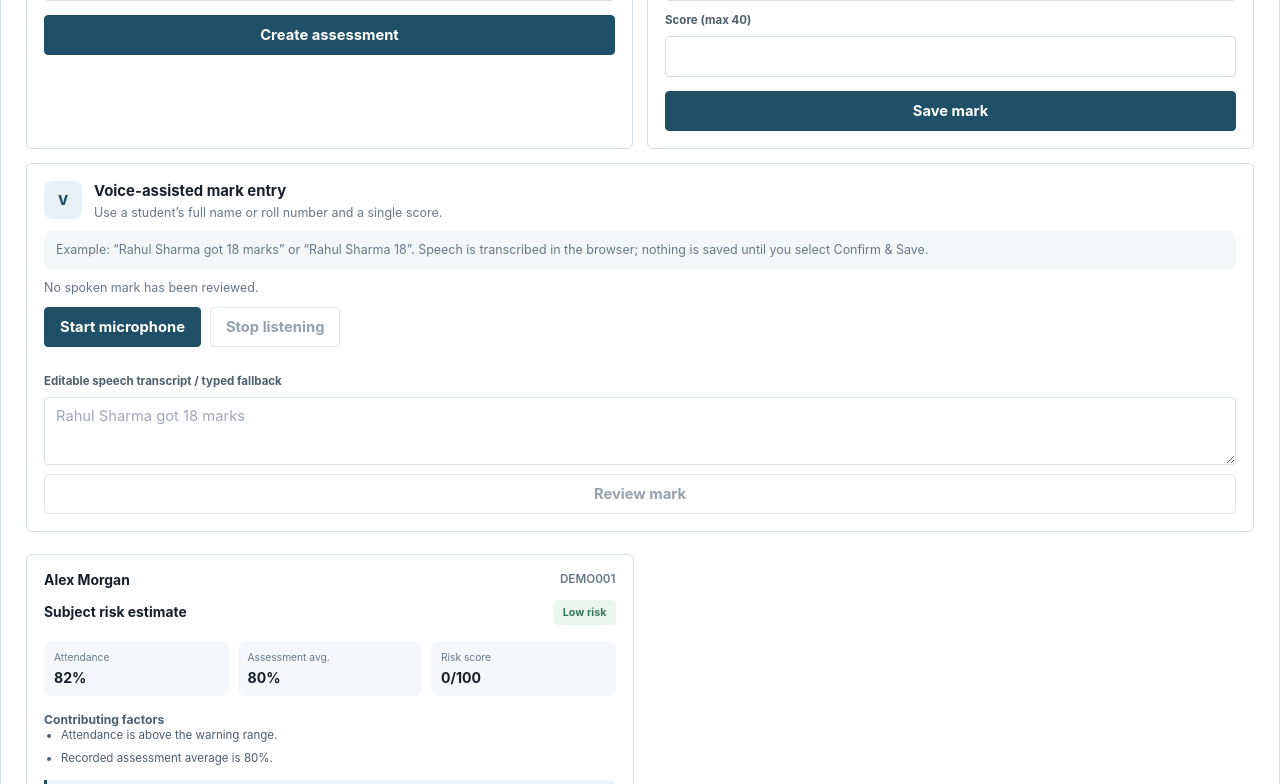
it: academic workspace › surfaces mark API failures instead of reporting a successful save
This screenshot has width=1280, height=784.
(page scrolled)
In the text box labelled "Editable speech transcript / typed fallback": [640, 431] box [44, 397, 1236, 465], type "Alex Morgan got 18 marks"
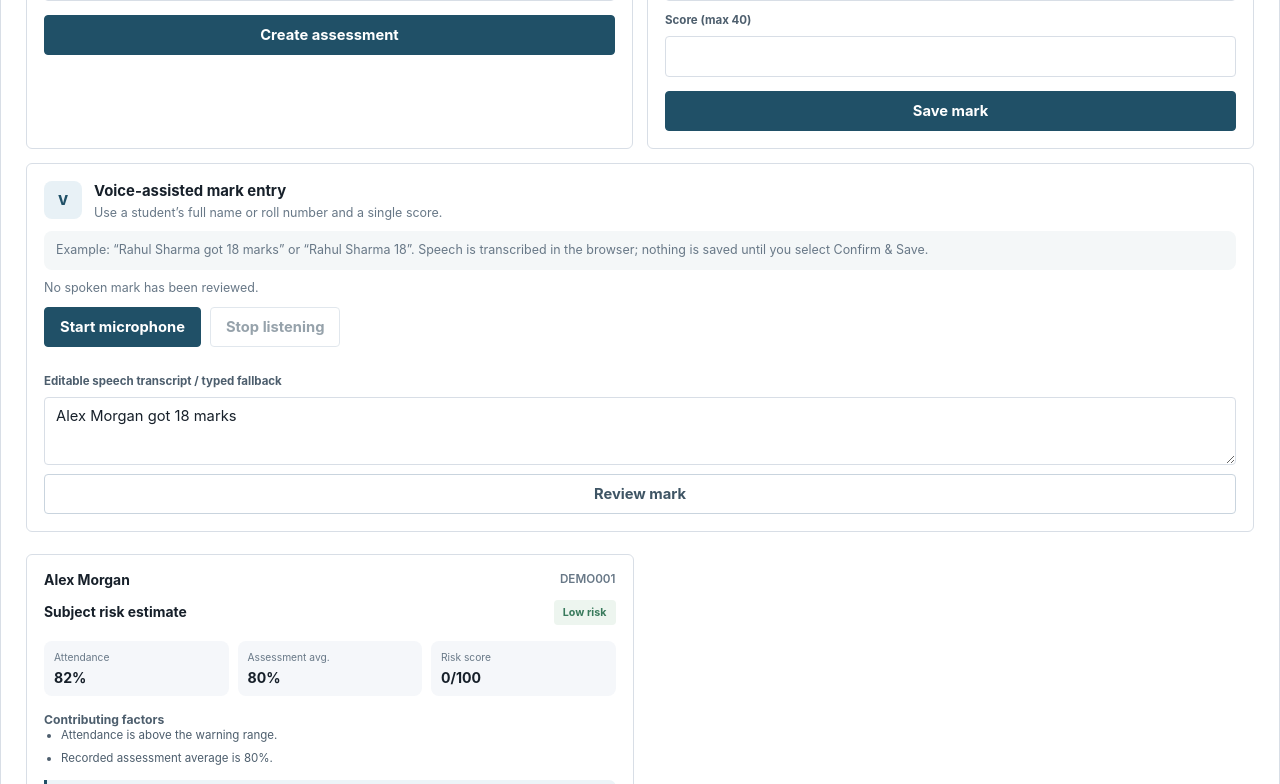
Click the button "Review mark": [640, 494] box [44, 474, 1236, 514]
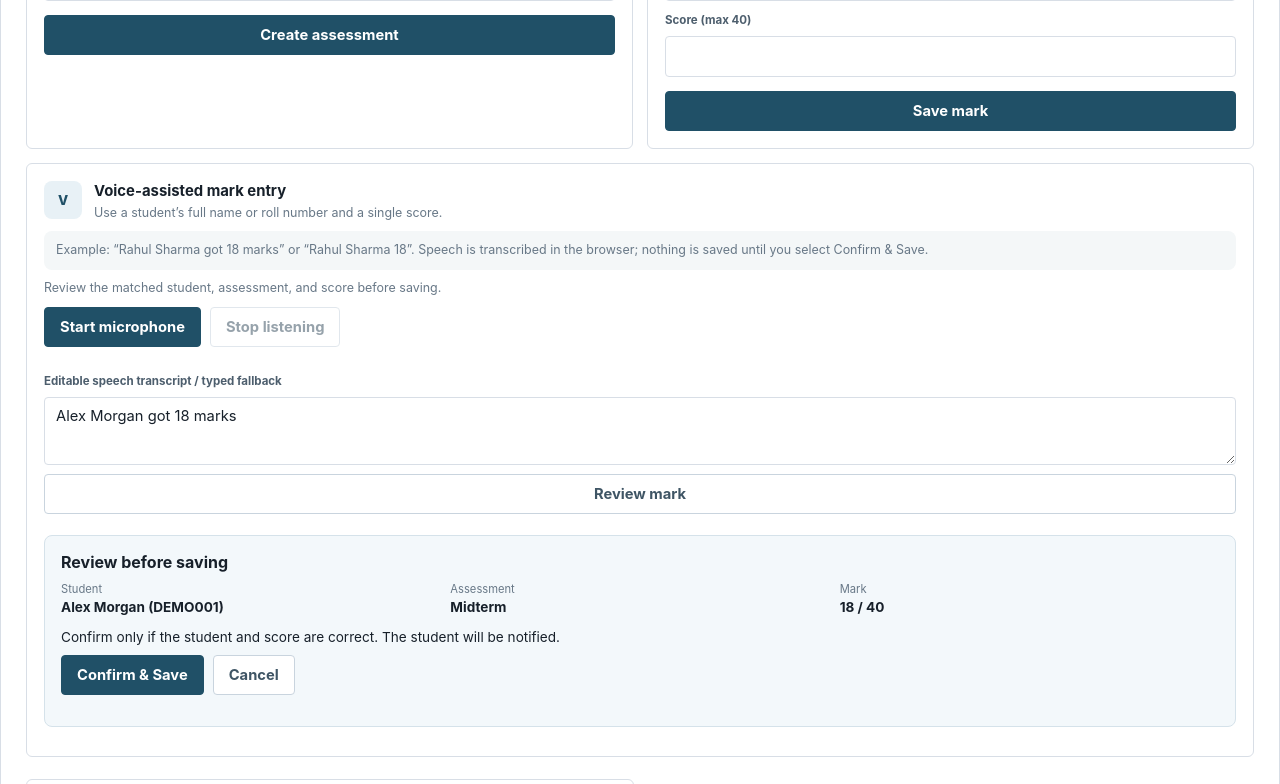
Click the button "Confirm & Save": [132, 675] box [61, 655, 204, 695]
(page scrolled)
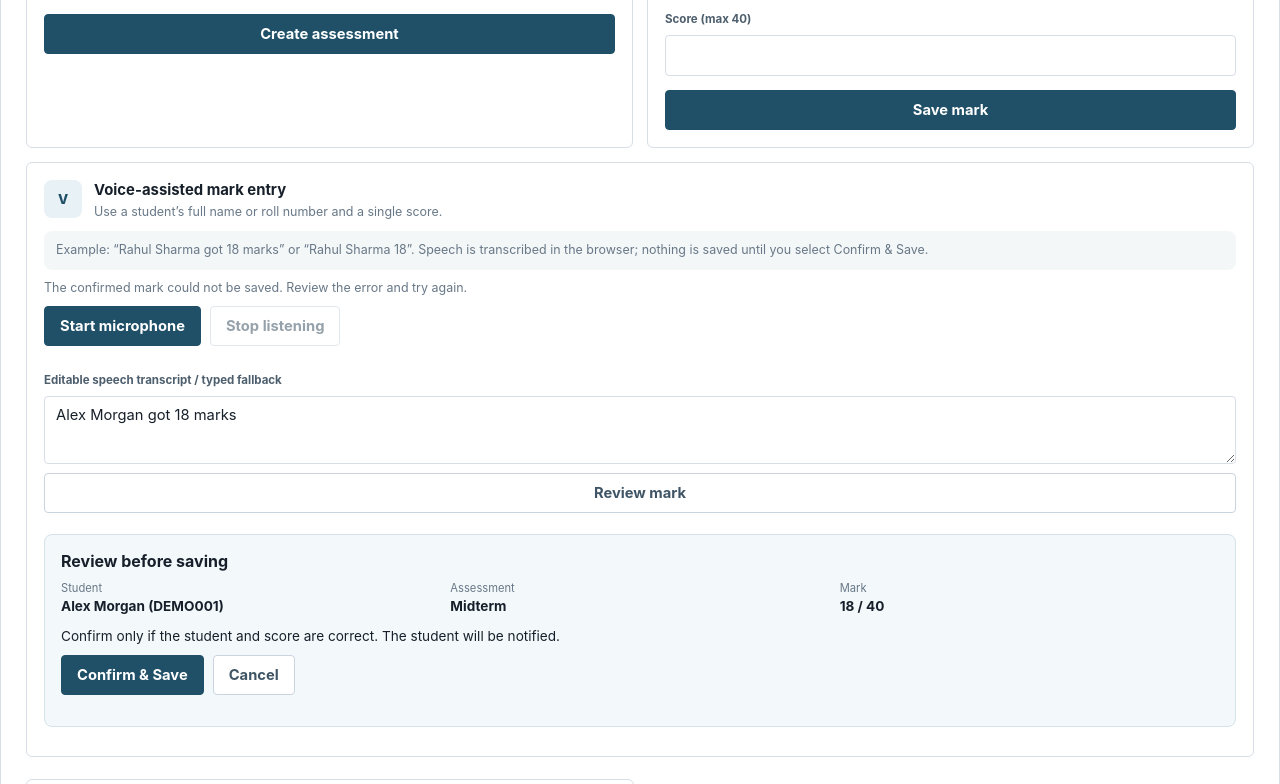
Now the text "The confirmed mark could not be saved. Review the error and try again." is shown, box [44, 280, 467, 295]
